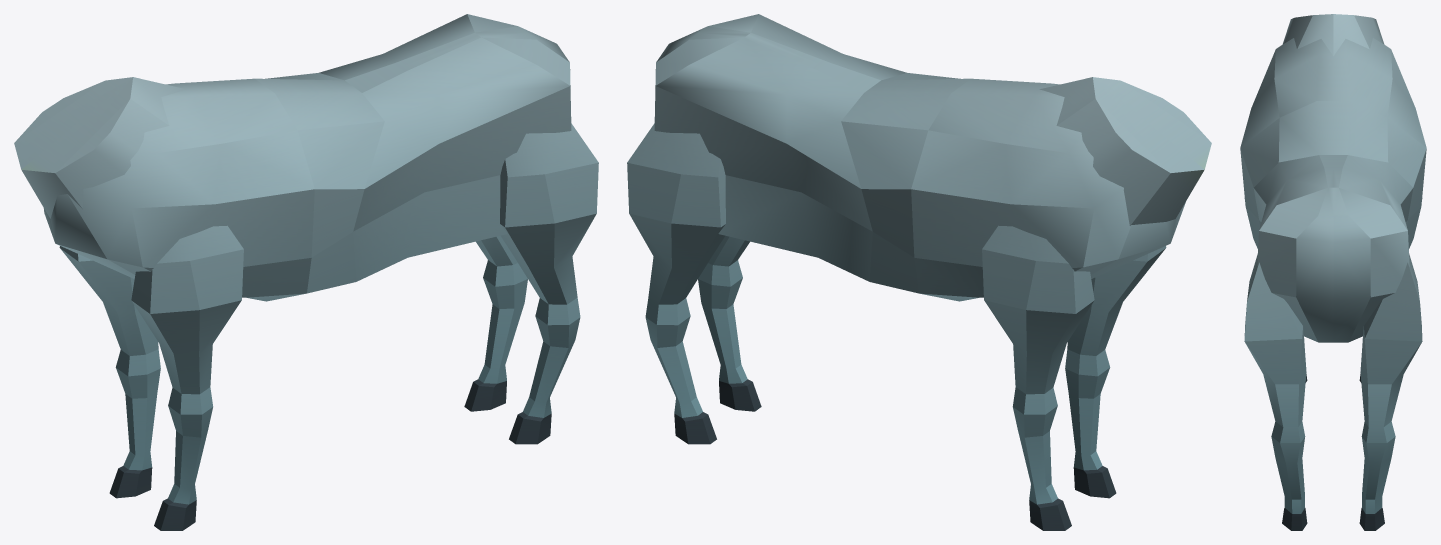
Rendered from SM_Donkey_Body.fbx.
3 views of the same model, side by side, from view 1: azimuth 30°, elevation 25°; view 2: azimuth 150°, elevation 25°; view 3: azimuth 270°, elevation 25° (orthographic). The views are drawn at different scales.
Visible parts, largest first — view 1: SM_Donkey_Body; view 2: SM_Donkey_Body; view 3: SM_Donkey_Body.
Boxes of the visible parts, bbox=[...] form: SM_Donkey_Body: bbox=[14, 14, 598, 530]; SM_Donkey_Body: bbox=[627, 14, 1211, 530]; SM_Donkey_Body: bbox=[1240, 14, 1426, 530].
Size of the model in its own units: 73.15 by 56.82 by 26.72.
